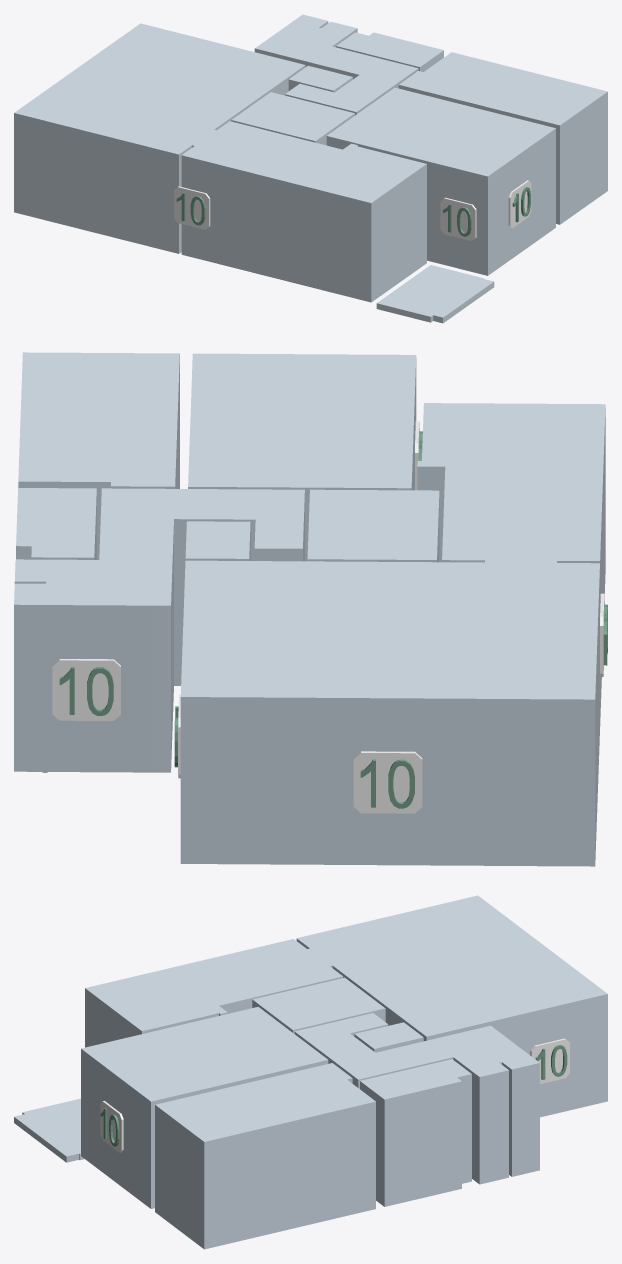
The picture shows the model from 3 angles, top to bottom: view 1: azimuth 30°, elevation 25°; view 2: azimuth 150°, elevation 25°; view 3: azimuth 270°, elevation 25°; orthographic projection. The views are drawn at different scales.
Parts seen in each view (by area): view 1: g_1, g_0, g_3, g_4, g_7, g_8, g_2, g_5, g_17, g_6, g_20, g_11; view 2: g_1, g_7, g_3, g_0, g_4, g_2, g_5, g_14, g_26, g_6; view 3: g_4, g_1, g_3, g_7, g_0, g_5, g_2, g_8, g_6, g_23, g_11.
Boxes of the visible parts, x1=… form: g_1: x1=14, y1=23, x2=305, y2=253; g_0: x1=181, y1=121, x2=426, y2=302; g_3: x1=326, y1=87, x2=555, y2=275; g_4: x1=398, y1=52, x2=607, y2=224; g_7: x1=254, y1=14, x2=418, y2=115; g_8: x1=376, y1=265, x2=494, y2=323; g_2: x1=231, y1=92, x2=354, y2=145; g_5: x1=336, y1=32, x2=443, y2=71; g_17: x1=174, y1=186, x2=210, y2=229; g_6: x1=288, y1=65, x2=352, y2=92; g_20: x1=440, y1=197, x2=476, y2=241; g_11: x1=508, y1=180, x2=531, y2=228; g_1: x1=180, y1=560, x2=599, y2=866; g_7: x1=14, y1=488, x2=304, y2=772; g_3: x1=188, y1=353, x2=416, y2=561; g_0: x1=417, y1=403, x2=605, y2=726; g_4: x1=18, y1=352, x2=179, y2=559; g_2: x1=307, y1=489, x2=439, y2=562; g_5: x1=16, y1=488, x2=96, y2=559; g_14: x1=353, y1=751, x2=422, y2=813; g_26: x1=52, y1=659, x2=120, y2=720; g_6: x1=185, y1=521, x2=250, y2=560; g_4: x1=155, y1=1063, x2=375, y2=1249; g_1: x1=296, y1=895, x2=607, y2=1117; g_3: x1=81, y1=1007, x2=328, y2=1208; g_7: x1=294, y1=1013, x2=539, y2=1184; g_0: x1=85, y1=939, x2=343, y2=1047; g_5: x1=360, y1=1059, x2=471, y2=1206; g_2: x1=252, y1=977, x2=385, y2=1033; g_8: x1=14, y1=1098, x2=84, y2=1162; g_6: x1=354, y1=1022, x2=423, y2=1052; g_23: x1=530, y1=1038, x2=569, y2=1083; g_11: x1=100, y1=1101, x2=123, y2=1152.
Bounding box in the file's own units: 12.67 × 2.74 × 12.9.
